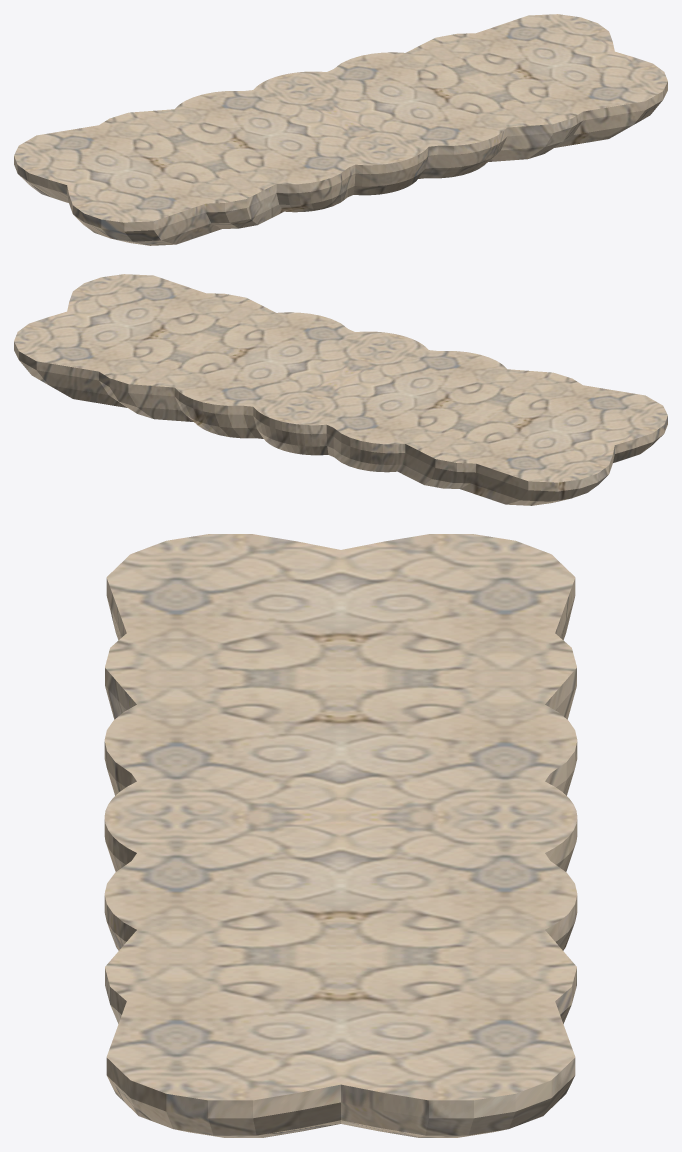
File: toad-prop-top-cloud.glb
3 views of the same model, one above another, from view 1: azimuth 30°, elevation 25°; view 2: azimuth 150°, elevation 25°; view 3: azimuth 270°, elevation 25° (orthographic). The views are drawn at different scales.
Parts seen in each view (by area): view 1: top-cloud; view 2: top-cloud; view 3: top-cloud.
Part boxes in pixels (bbox=[...]): top-cloud: bbox=[14, 14, 667, 245]; top-cloud: bbox=[14, 274, 667, 505]; top-cloud: bbox=[104, 534, 577, 1137].
Size of the model in its own units: 0.34 by 0.02 by 0.12.
Materials: 1 (1 with a texture image).
